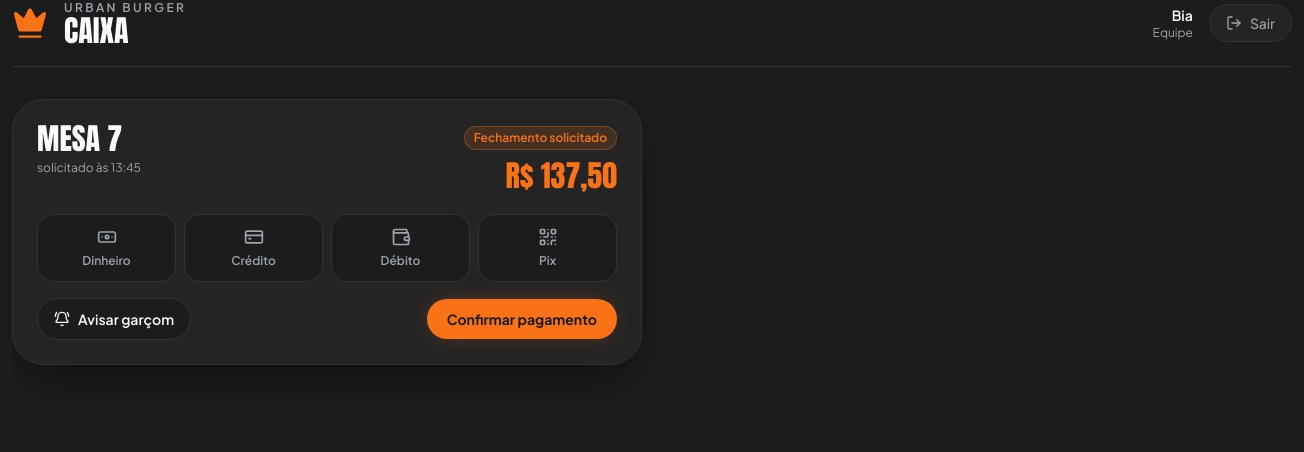
CaixaDashboard — confirmar pagamento › traduz o código de negócio devolvido pela Edge Function
This screenshot has width=1304, height=452.
Click the button "Débito" at (400, 248), box [331, 214, 470, 282]
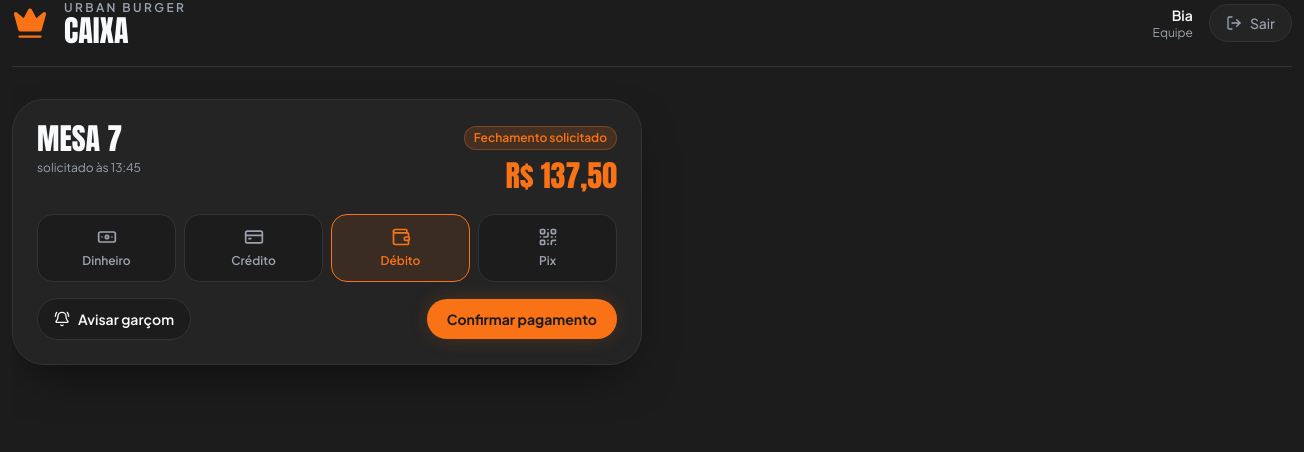
Click the button "Confirmar pagamento" at (522, 319), box [427, 299, 617, 339]
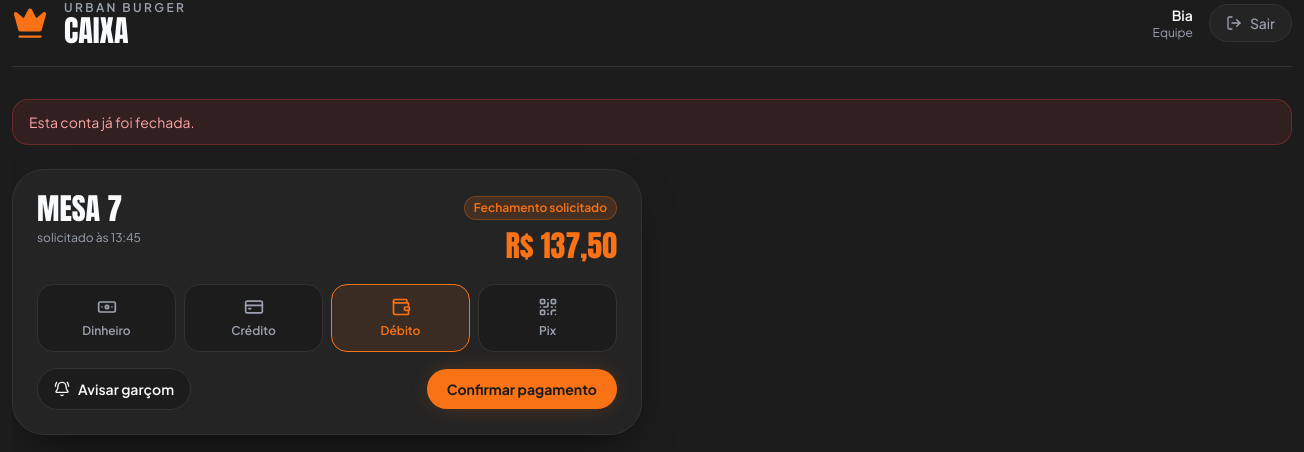
Expected: the text "Esta conta já foi fechada." is shown, [12, 99, 1292, 145]
